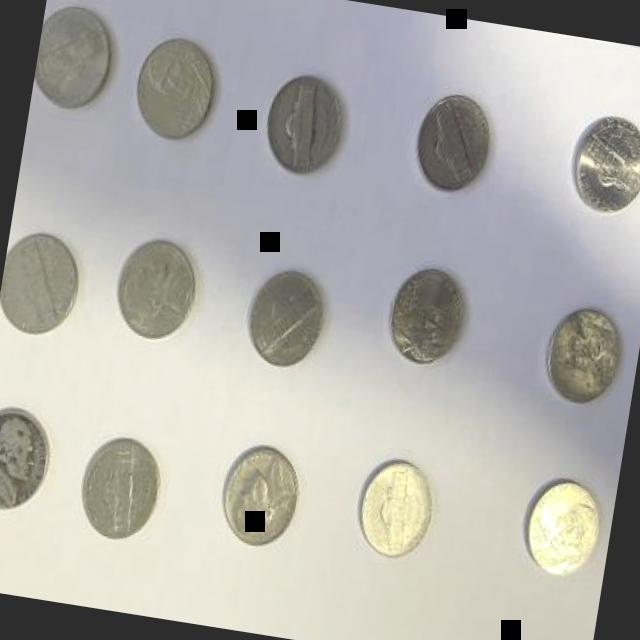Nickel: (240, 252, 340, 378), (256, 60, 356, 184), (211, 438, 311, 558), (0, 221, 93, 348), (127, 31, 226, 148), (350, 451, 450, 566), (73, 430, 170, 548), (513, 470, 610, 586), (110, 230, 208, 344), (379, 260, 475, 370), (408, 88, 500, 201), (30, 0, 121, 114), (538, 300, 630, 409), (562, 106, 640, 225), (0, 400, 65, 522)
